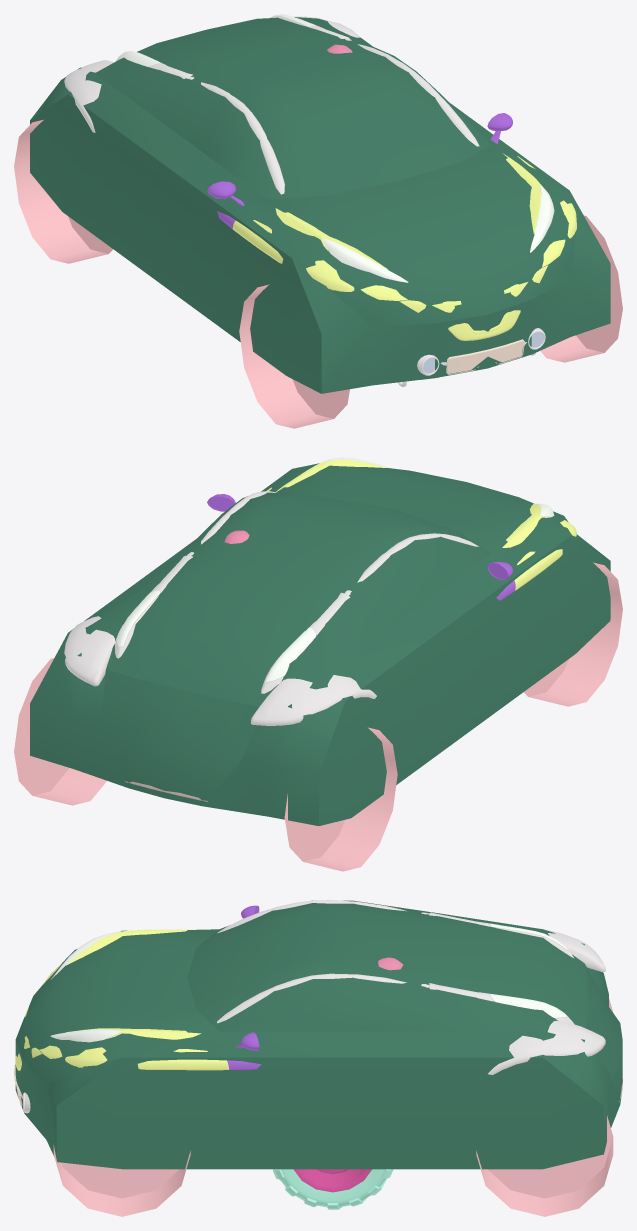
Rendered from buggy.gltf.
3 renders of one model, top to bottom at view 1: azimuth 30°, elevation 25°; view 2: azimuth 150°, elevation 25°; view 3: azimuth 270°, elevation 25°, orthographic. The views are drawn at different scales.
Visible parts, largest first — view 1: h_shape, h_shadow, h_hood, h_coque, h_glasses, h_license, h_door; view 2: h_shape, h_shadow, h_coque, h_hood, h_glasses, h_door; view 3: h_shape, h_shadow, h_coque, h_hood, h_pneu, h_glasses, h_wheel, h_door.
Boxes of the visible parts, left/top/right/bottom form: h_shape: left=30, top=17, right=610, bottom=393; h_shadow: left=14, top=119, right=622, bottom=428; h_hood: left=232, top=153, right=576, bottom=340; h_coque: left=64, top=16, right=545, bottom=387; h_glasses: left=117, top=14, right=554, bottom=282; h_license: left=446, top=339, right=524, bottom=374; h_door: left=207, top=113, right=512, bottom=228; h_shape: left=30, top=463, right=610, bottom=825; h_shadow: left=14, top=562, right=622, bottom=871; h_coque: left=64, top=491, right=479, bottom=725; h_hood: left=266, top=459, right=576, bottom=590; h_glasses: left=117, top=457, right=554, bottom=682; h_door: left=207, top=494, right=515, bottom=600; h_shape: left=15, top=900, right=622, bottom=1169; h_shadow: left=53, top=998, right=613, bottom=1216; h_coque: left=18, top=900, right=605, bottom=1113; h_hood: left=15, top=929, right=229, bottom=1070; h_pneu: left=273, top=1169, right=393, bottom=1209; h_glasses: left=50, top=923, right=567, bottom=1042; h_wheel: left=293, top=1169, right=371, bottom=1192; h_door: left=227, top=905, right=261, bottom=1069.
Bounding box in the file's own units: 2.19 × 1.93 × 3.97.
